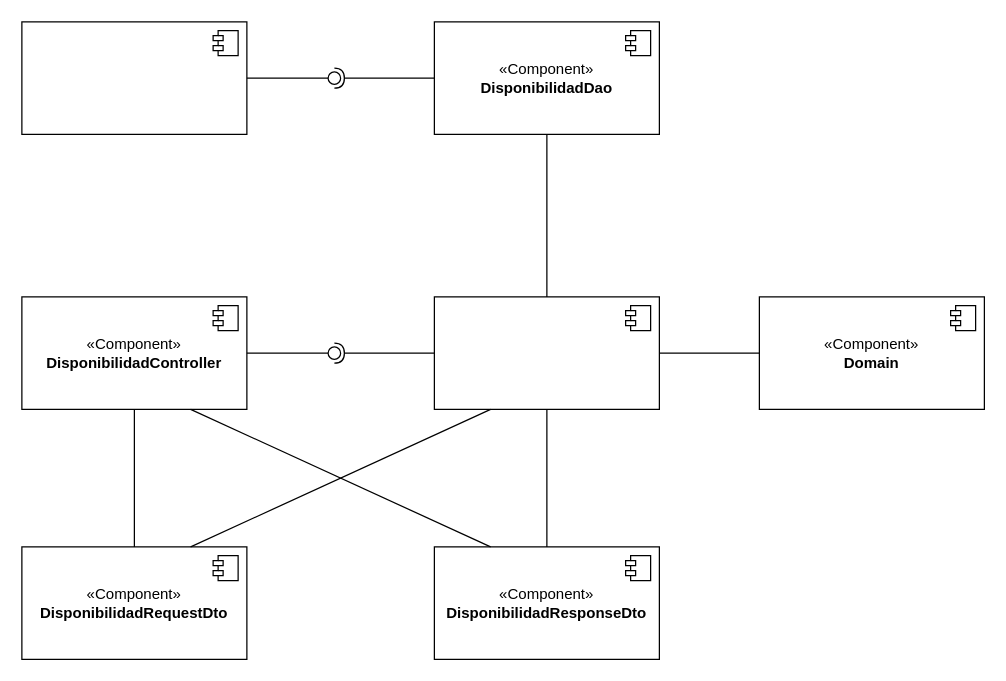
Image size: 1006x681. Some labels were removed from this diagram. The shapes that lost their labels are listed below. From the top down, each one's centre as x and y in pixels, then its label:
At [134,77]: "«Component» ConnectionHotelSqlServer".
At [546,352]: "«Component» DisponibilidadService".
